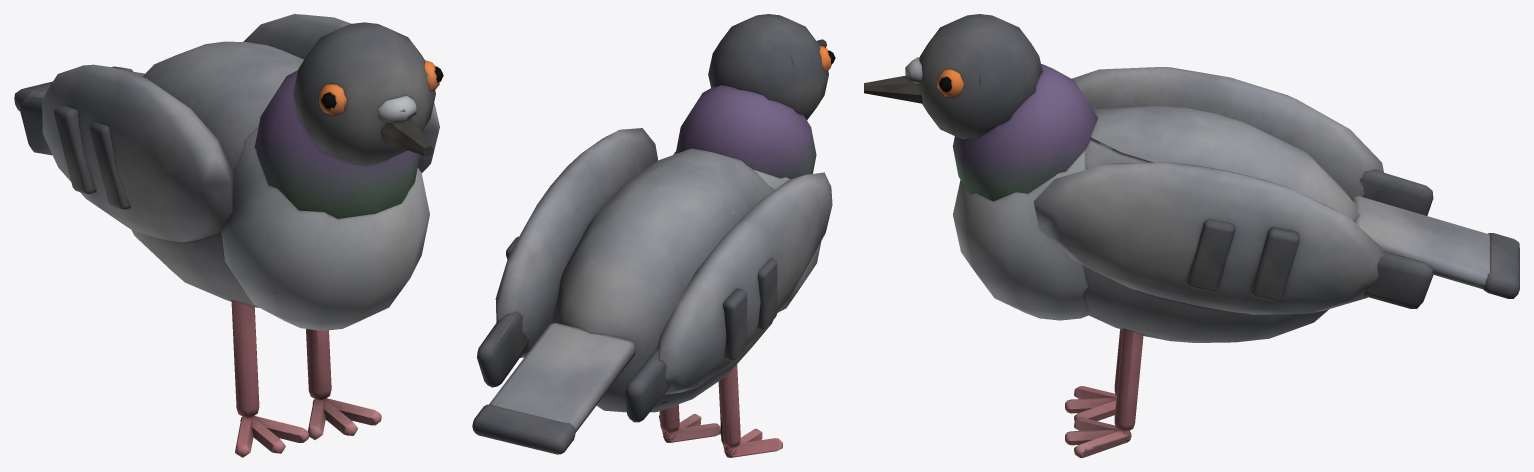
Rendered from pigeon.fbx.
3 renders of one model, left to right at view 1: azimuth 30°, elevation 25°; view 2: azimuth 150°, elevation 25°; view 3: azimuth 270°, elevation 25°, orthographic. The views are drawn at different scales.
Visible parts, largest first — view 1: Body, WingR, Head, WingL, Tail; view 2: Body, WingR, WingL, Tail, Head; view 3: Body, WingL, WingR, Head, Tail.
Boxes of the visible parts, left/top/right/bottom form: Body: left=131, top=41, right=429, bottom=457; WingR: left=19, top=64, right=234, bottom=242; Head: left=293, top=22, right=443, bottom=165; WingL: left=243, top=14, right=439, bottom=172; Tail: left=14, top=66, right=144, bottom=111; Body: left=553, top=85, right=821, bottom=457; WingR: left=625, top=172, right=832, bottom=422; WingL: left=477, top=128, right=657, bottom=387; Tail: left=472, top=323, right=635, bottom=454; Head: left=708, top=14, right=835, bottom=119; Body: left=952, top=64, right=1359, bottom=457; WingL: left=1033, top=162, right=1433, bottom=314; WingR: left=1072, top=67, right=1433, bottom=215; Head: left=864, top=14, right=1042, bottom=139; Tail: left=1351, top=196, right=1519, bottom=298.
Bounding box in the file's own units: 0.5286 × 0.839 × 1.22.
Materials: 1 (1 with a texture image).
